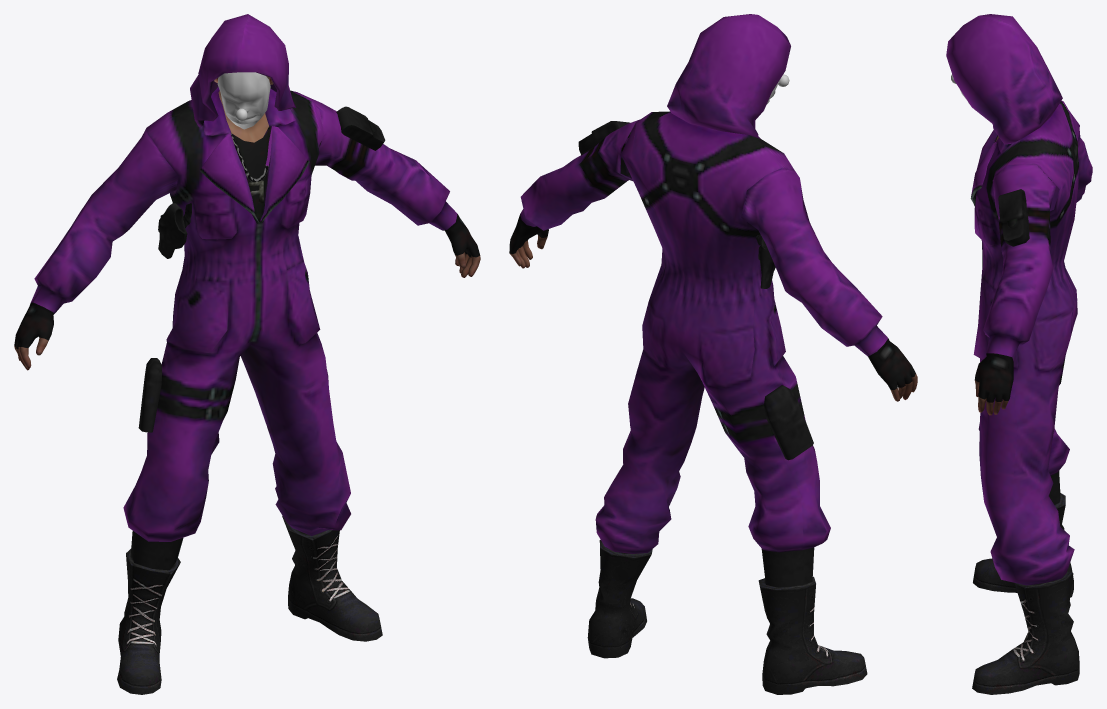
Rendered from purple.obj.
The picture shows the model from 3 angles, left to right: view 1: azimuth 30°, elevation 25°; view 2: azimuth 150°, elevation 25°; view 3: azimuth 270°, elevation 25°; orthographic projection. The views are drawn at different scales.
Parts seen in each view (by area): view 1: Mesh_3464.rip_Mesh_3464.rip_mesh0000, Mesh_4131.rip_Mesh_4131.rip_mesh0000; view 2: Mesh_3464.rip_Mesh_3464.rip_mesh0000; view 3: Mesh_3464.rip_Mesh_3464.rip_mesh0000.
Part boxes in pixels (x1,y1,x2,y2): Mesh_3464.rip_Mesh_3464.rip_mesh0000: [14, 14, 480, 694]; Mesh_4131.rip_Mesh_4131.rip_mesh0000: [217, 72, 270, 129]; Mesh_3464.rip_Mesh_3464.rip_mesh0000: [509, 14, 917, 694]; Mesh_3464.rip_Mesh_3464.rip_mesh0000: [946, 14, 1092, 694].
Size of the model in its own units: 9.47 by 13.44 by 2.9.
